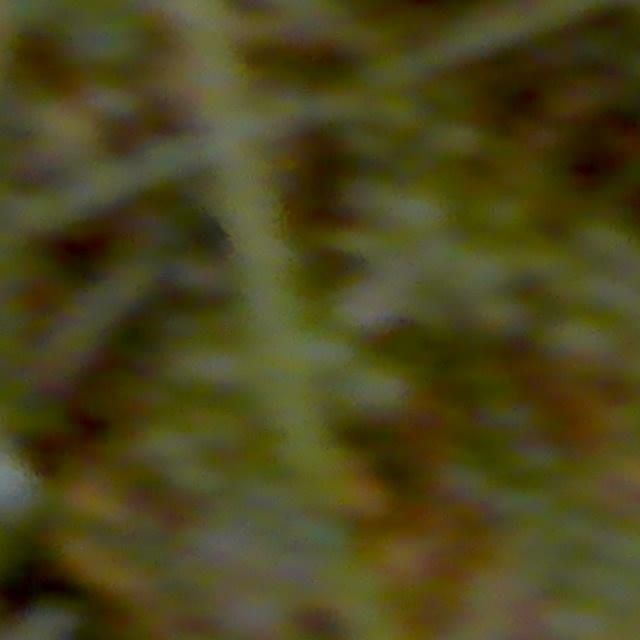SeaGrape: (0, 447, 50, 527)
